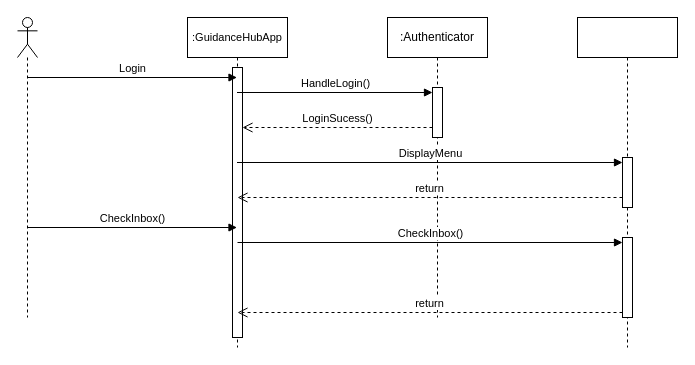
Some shapes in this 695 by 365 pixel diagram are drawn without their labels. Each missing label, with the box of its shape:
:SeniorTutor: (576, 16, 678, 348)
ST: (16, 16, 38, 318)
